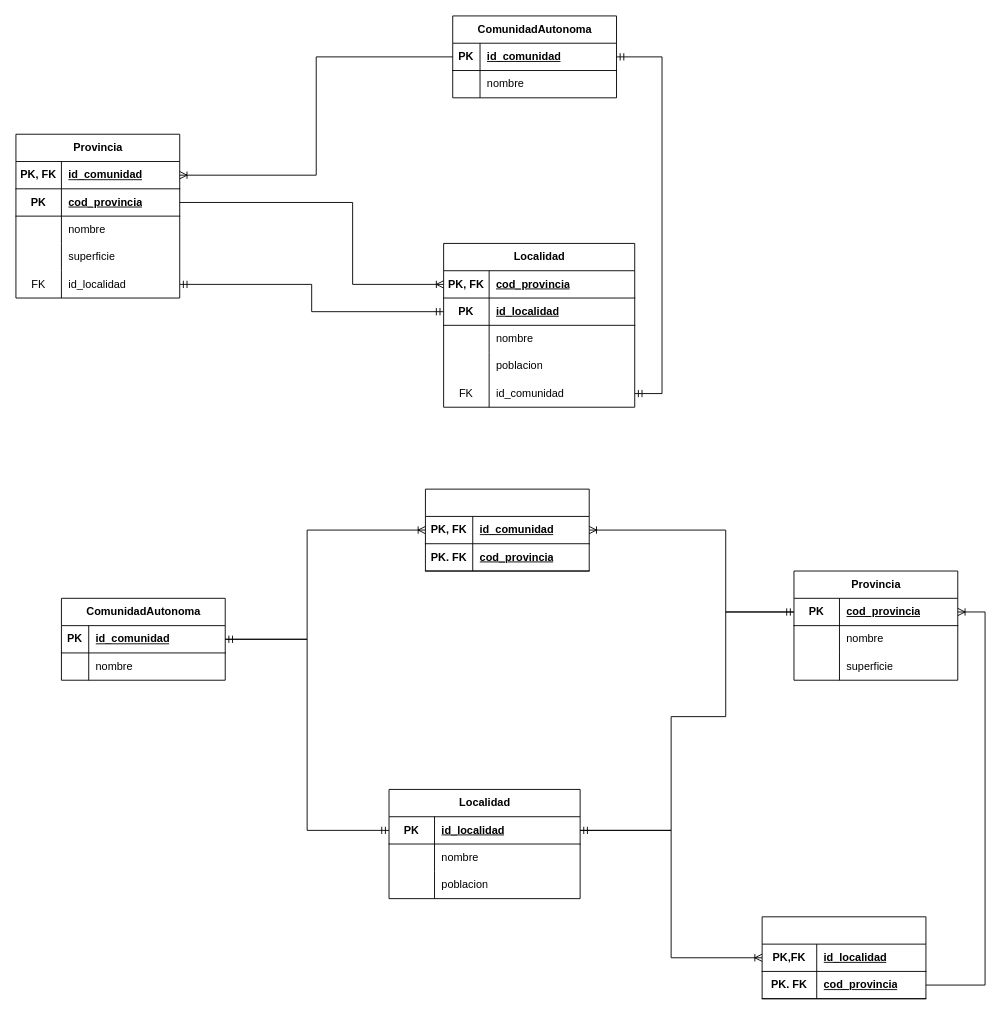
This 1008x1015 diagram has some shape labels left out. Here are the shapes that lost their labels. From the top down, the box of each, then its label:
(425, 488, 589, 571): Contiene
(761, 916, 926, 999): Pertenece
